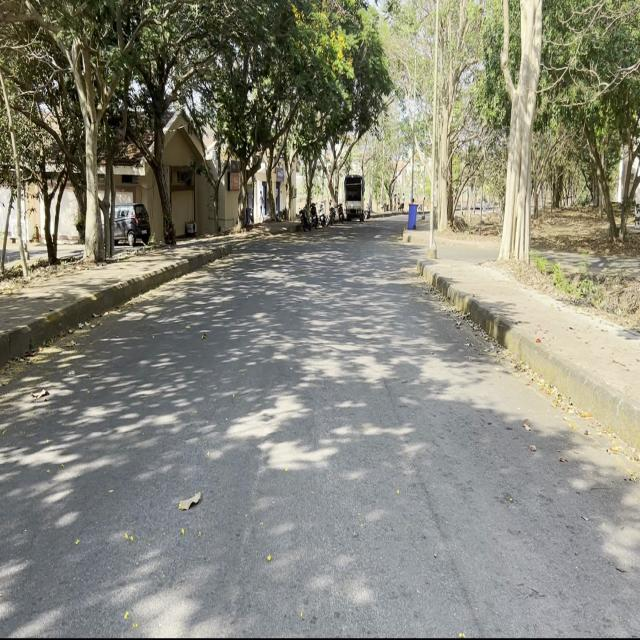Object: (341, 170, 368, 232)
Road: (3, 230, 636, 634)
